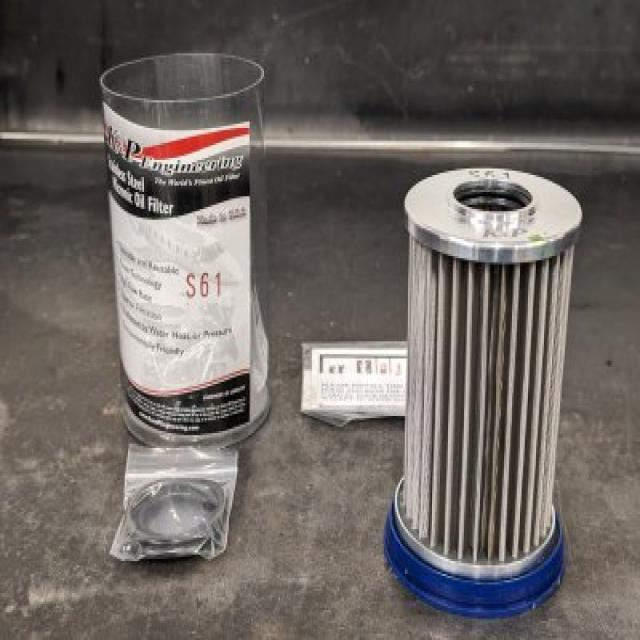oil_filter: (404, 162, 569, 621)
